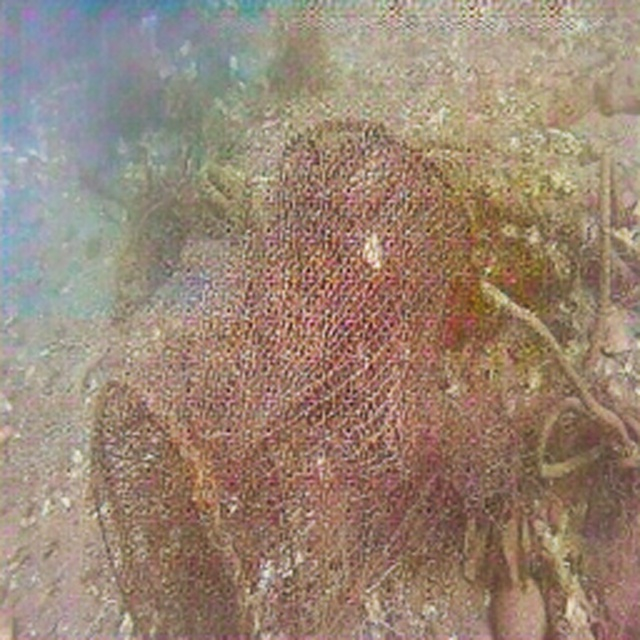mine: (90, 114, 477, 639)
